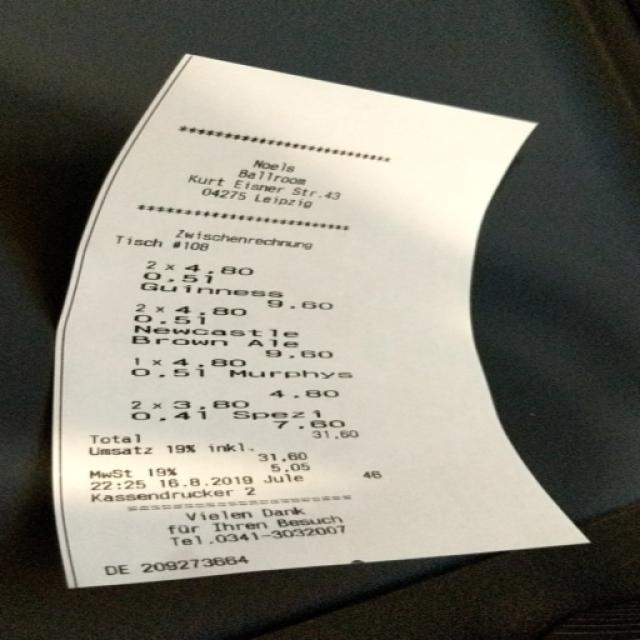document: (54, 55, 588, 588)
